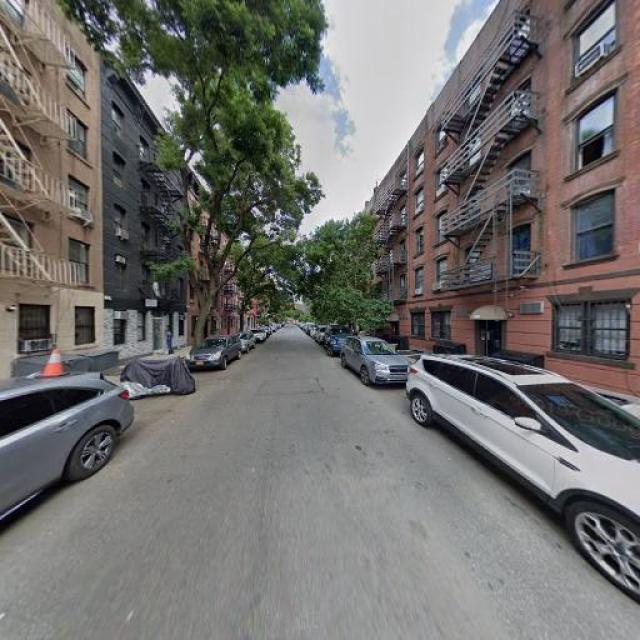Building: (454, 1, 640, 395), (1, 1, 99, 379)
